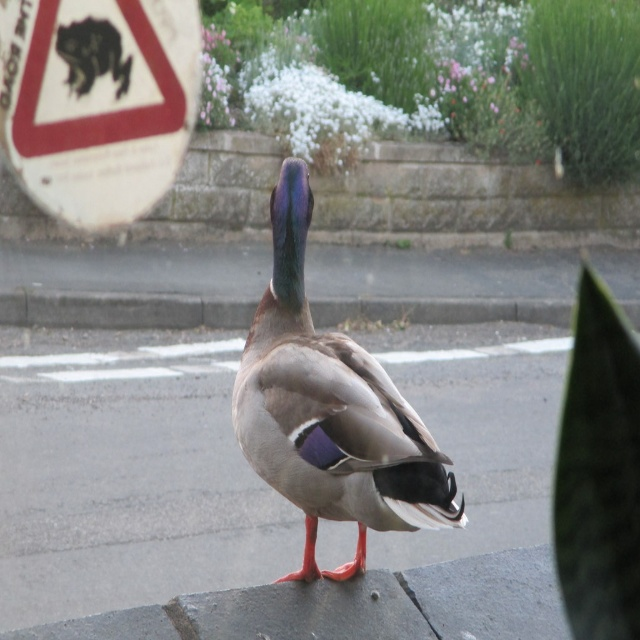Duck: (237, 162, 478, 605)
